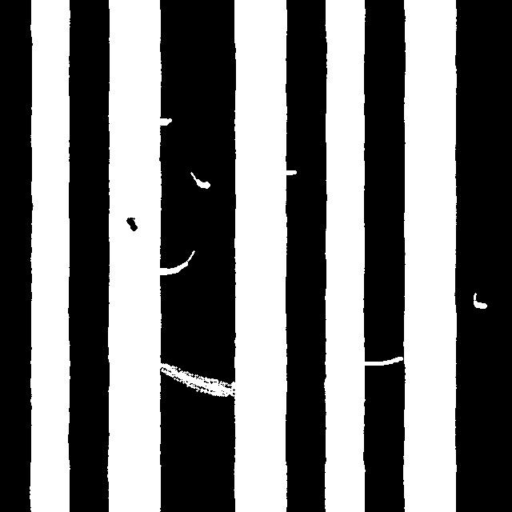copper: (118, 210, 145, 238)
mousebite: (147, 242, 202, 282), (148, 110, 179, 133), (274, 162, 304, 182)
open: (149, 355, 246, 404), (350, 349, 410, 373)
pin-hole: (182, 164, 218, 196), (466, 285, 494, 316)
